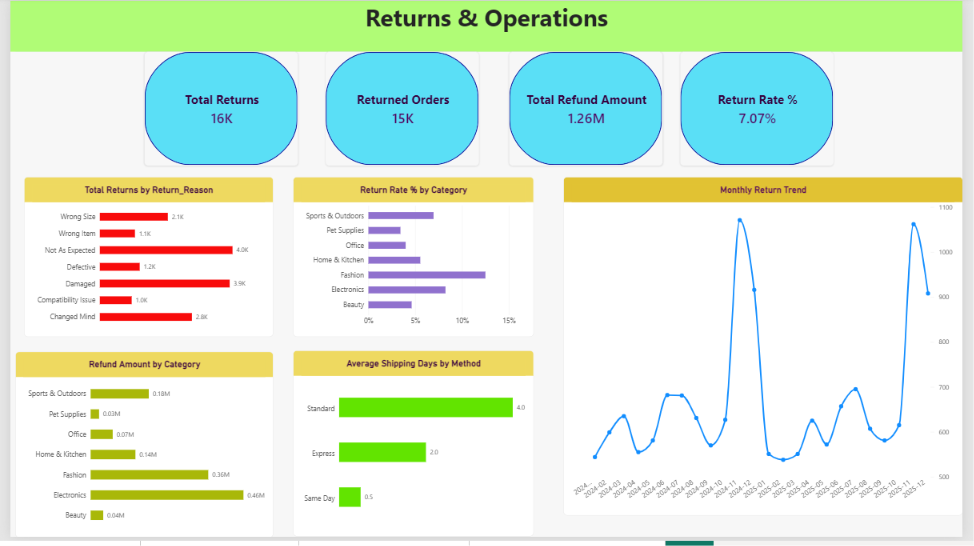

The dashboard page shown, as its layout file describes it:
{"tool":"powerbi","page":{"name":"Returns & Operations","canvas":[1920,1080],"ordinal":3},"visuals":[{"type":"shape","box":[10,0,1910,101.7],"z":0},{"type":"textbox","box":[0,0,1920,102.5],"z":1000},{"type":"cardVisual","fields":{"Data":["Returns.Total Returns"]},"box":[270.2,102.5,310,230],"z":2000},{"type":"cardVisual","fields":{"Data":["Returns.Returned Orders"]},"box":[635.2,102.5,310,230],"z":3000},{"type":"cardVisual","fields":{"Data":["Returns.Total Refund Amount"]},"box":[1005.2,102.5,310,230],"z":4000},{"type":"cardVisual","fields":{"Data":["Orders.Return Rate %"]},"box":[1350.2,102.5,310,230],"z":5000},{"type":"barChart","fields":{"Category":["Returns.Return_Reason"],"Y":["Returns.Total Returns"]},"box":[27.5,355,502.5,322.5],"z":6000},{"type":"barChart","title":"Refund Amount by Category","fields":{"Category":["Products.Category"],"Y":["Returns.Total Refund Amount"]},"box":[10,707.5,520,374.6],"z":7000},{"type":"barChart","fields":{"Category":["Products.Category"],"Y":["Orders.Return Rate %"]},"box":[570,355,485,322.5],"z":8000},{"type":"barChart","title":"Average Shipping Days by Method","fields":{"Category":["Orders.Shipping_Method"],"Y":["Orders.Average Shipping Days"]},"box":[570,705,485,375],"z":9000},{"type":"lineChart","title":"Monthly Return Trend","fields":{"Category":["Date.Year Month"],"Y2":["Returns.Total Returns"]},"box":[1115,355,805,682.5],"z":10000}]}

Visuals, with their boxes in screenshot pixels (x1, y1, x2, y2), scaled from the page's 1920x1080 canvas onto the 974x546 screenshot:
shape: [left=5, top=0, right=973, bottom=51]
textbox: [left=0, top=0, right=973, bottom=52]
cardVisual - Returns.Total Returns: [left=137, top=52, right=294, bottom=168]
cardVisual - Returns.Returned Orders: [left=322, top=52, right=479, bottom=168]
cardVisual - Returns.Total Refund Amount: [left=510, top=52, right=667, bottom=168]
cardVisual - Orders.Return Rate %: [left=685, top=52, right=842, bottom=168]
barChart - Returns.Return_Reason x Returns.Total Returns: [left=14, top=179, right=269, bottom=343]
"Refund Amount by Category" barChart: [left=5, top=358, right=269, bottom=545]
barChart - Products.Category x Orders.Return Rate %: [left=289, top=179, right=535, bottom=343]
"Average Shipping Days by Method" barChart: [left=289, top=356, right=535, bottom=545]
"Monthly Return Trend" lineChart: [left=566, top=179, right=973, bottom=525]
